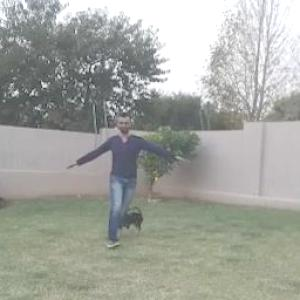land: (75, 118, 187, 248)
